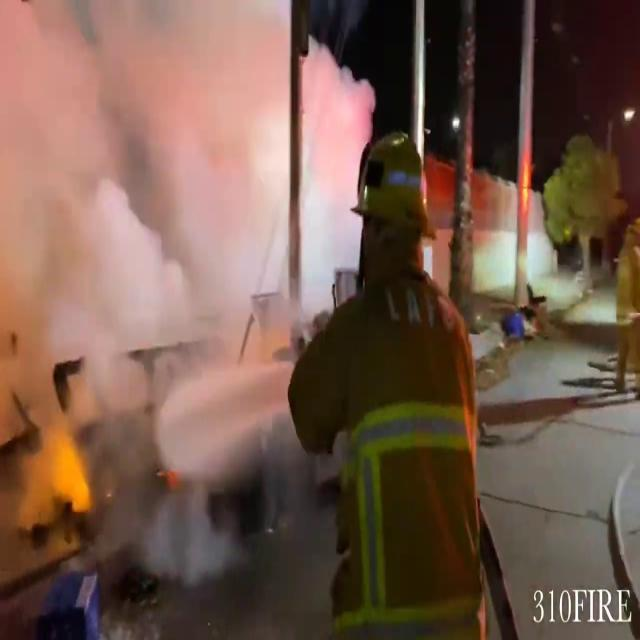Smoke: (0, 0, 303, 601)
